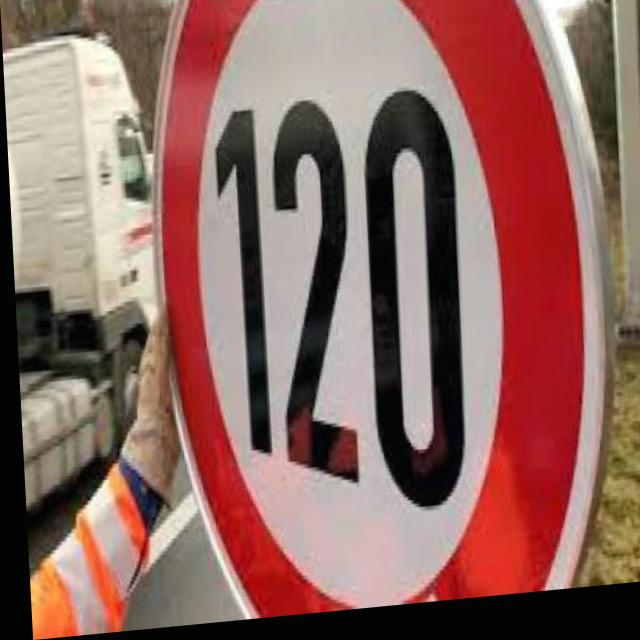limit120: (116, 0, 629, 631)
